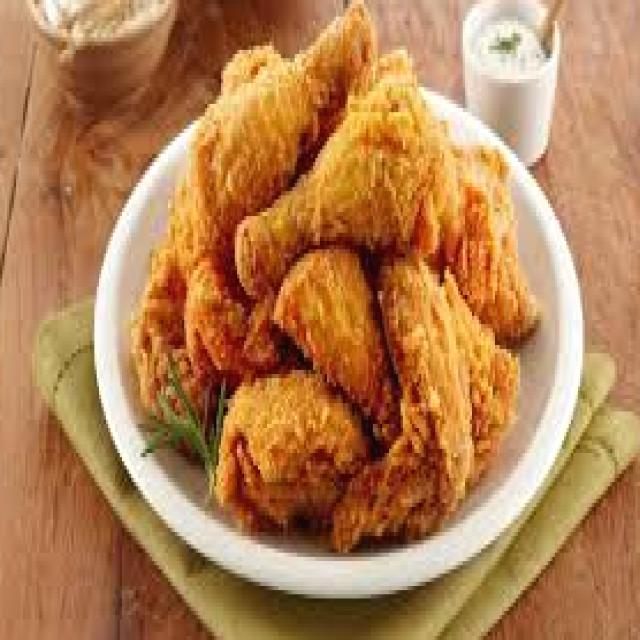ayam_goreng: (136, 0, 541, 540), (240, 85, 457, 294), (223, 353, 368, 515)
